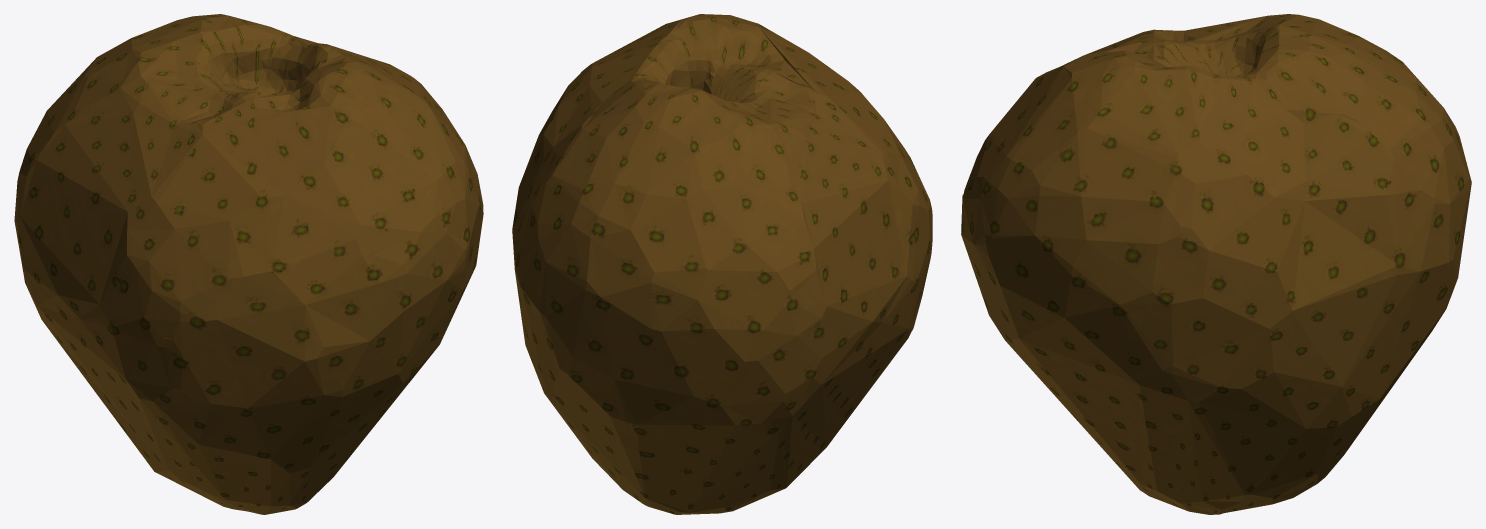
3 renders of one model, left to right at view 1: azimuth 30°, elevation 25°; view 2: azimuth 150°, elevation 25°; view 3: azimuth 270°, elevation 25°, orthographic. The views are drawn at different scales.
Parts seen in each view (by area): view 1: _001_Meshed; view 2: _001_Meshed; view 3: _001_Meshed.
Part boxes in pixels (x1,y1,x2,y2): _001_Meshed: (14,14,483,514); _001_Meshed: (512,14,932,514); _001_Meshed: (961,14,1471,514).
Size of the model in its own units: 0.0955 by 0.1113 by 0.1115.
Materials: 1 (1 with a texture image).
